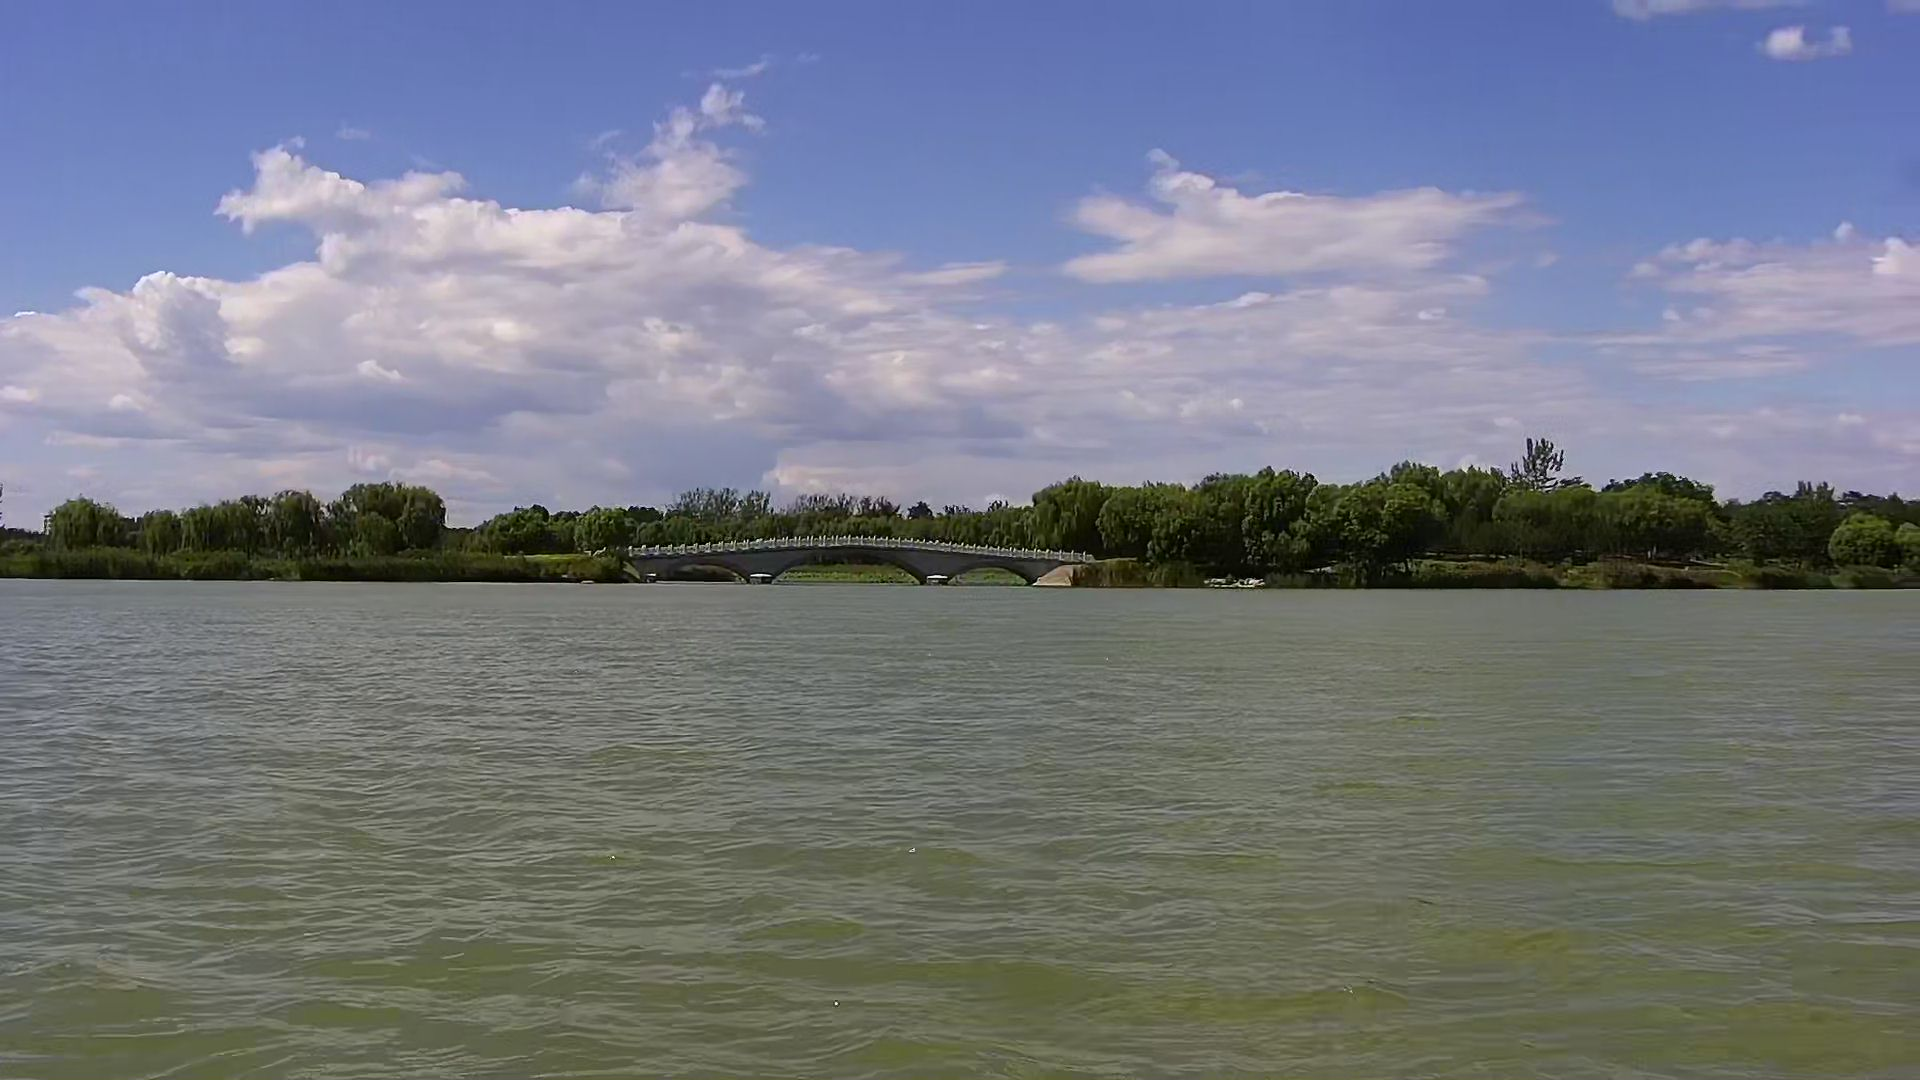bridge: (585, 524, 1083, 588)
